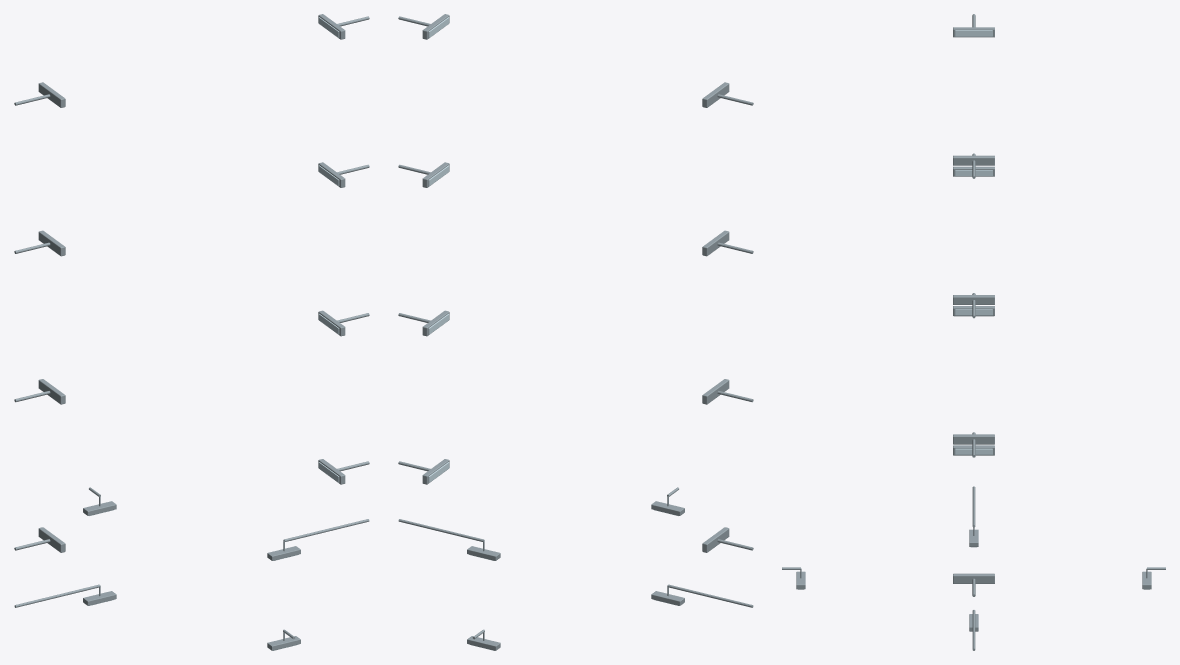
Rendered from TA_VA_Lighting.fbx.
3 views of the same model, side by side, from view 1: azimuth 30°, elevation 25°; view 2: azimuth 150°, elevation 25°; view 3: azimuth 270°, elevation 25° (orthographic). The views are drawn at different scales.
Visible parts, largest first — view 1: TA_VA_Lighting; view 2: TA_VA_Lighting; view 3: TA_VA_Lighting.
Part boxes in pixels (left/top/right/bottom): TA_VA_Lighting: left=14, top=14, right=369, bottom=650; TA_VA_Lighting: left=398, top=14, right=753, bottom=650; TA_VA_Lighting: left=782, top=14, right=1165, bottom=650.
Bounding box in the file's own units: 998 × 1410 × 998.
